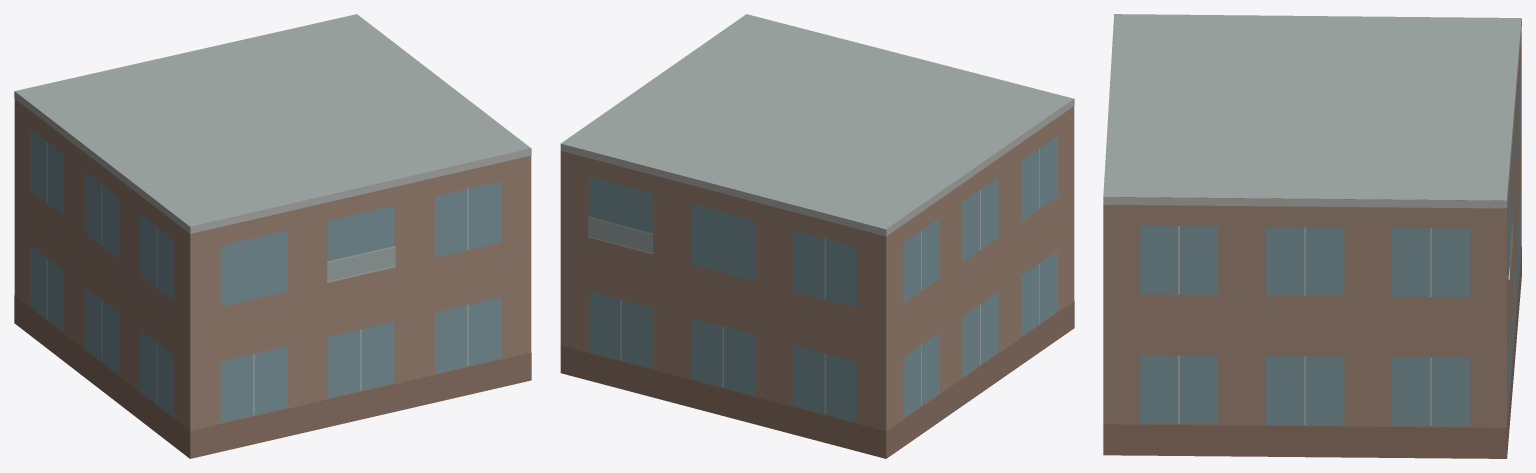
The model's file is survey-upis-32746853.glb.
The picture shows the model from 3 angles, left to right: view 1: azimuth 30°, elevation 25°; view 2: azimuth 150°, elevation 25°; view 3: azimuth 270°, elevation 25°; orthographic projection. The views are drawn at different scales.
Visible parts, largest first — view 1: survey-upis-32746853.tmp; view 2: survey-upis-32746853.tmp; view 3: survey-upis-32746853.tmp.
Boxes of the visible parts, x1=… form: survey-upis-32746853.tmp: x1=14, y1=14, x2=531, y2=458; survey-upis-32746853.tmp: x1=560, y1=14, x2=1074, y2=458; survey-upis-32746853.tmp: x1=1103, y1=14, x2=1521, y2=458.
Bounding box in the file's own units: 12.24 × 7.9 × 11.61.
